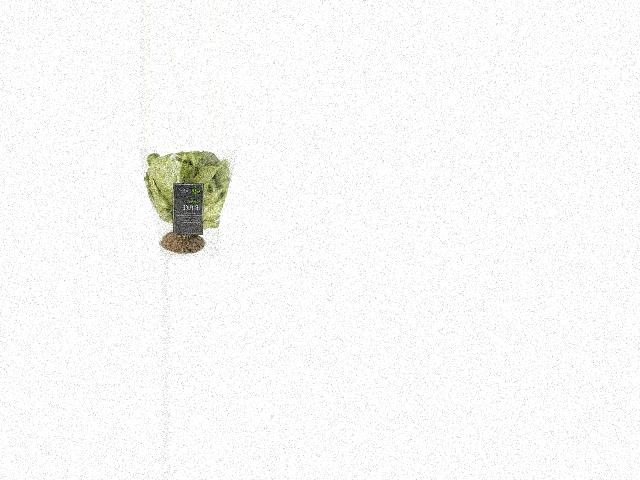lettuce: (140, 149, 234, 260)
